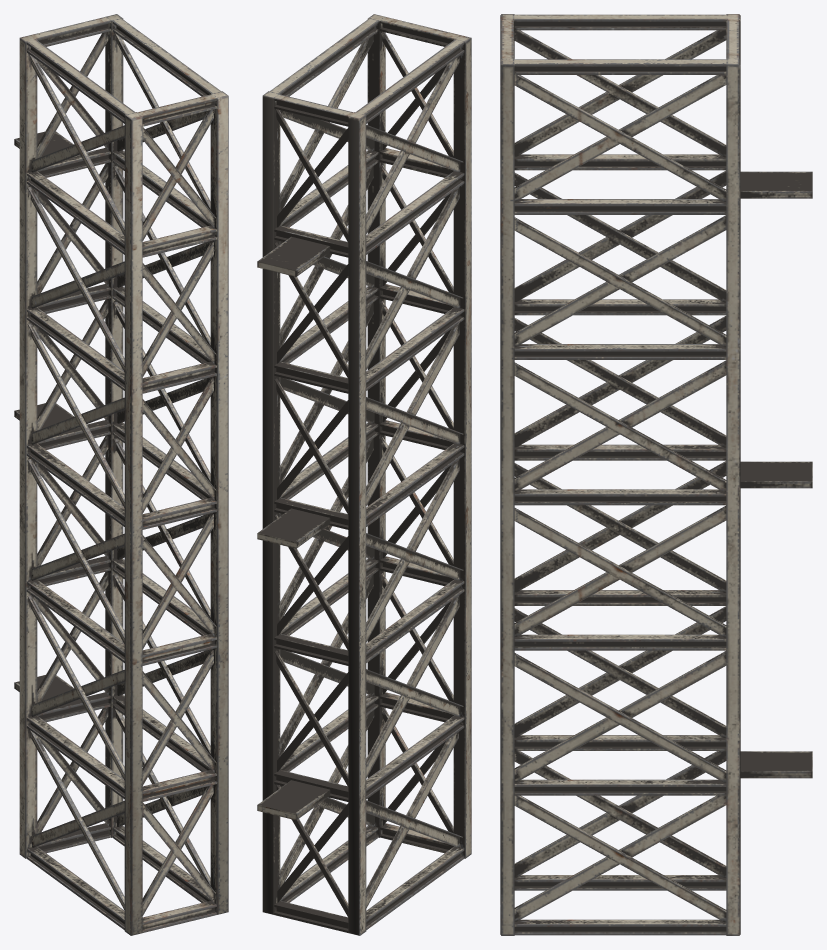
The model's file is sign_frameA.fbx.
3 views of the same model, side by side, from view 1: azimuth 30°, elevation 25°; view 2: azimuth 150°, elevation 25°; view 3: azimuth 270°, elevation 25° (orthographic). The views are drawn at different scales.
Visible parts, largest first — view 1: sign_frameA; view 2: sign_frameA; view 3: sign_frameA.
Boxes of the visible parts, bbox=[...] form: sign_frameA: bbox=[14, 14, 228, 935]; sign_frameA: bbox=[257, 14, 471, 935]; sign_frameA: bbox=[500, 14, 812, 935].
Size of the model in its own units: 50 by 400 by 130.
Materials: 1 (1 with a texture image).
